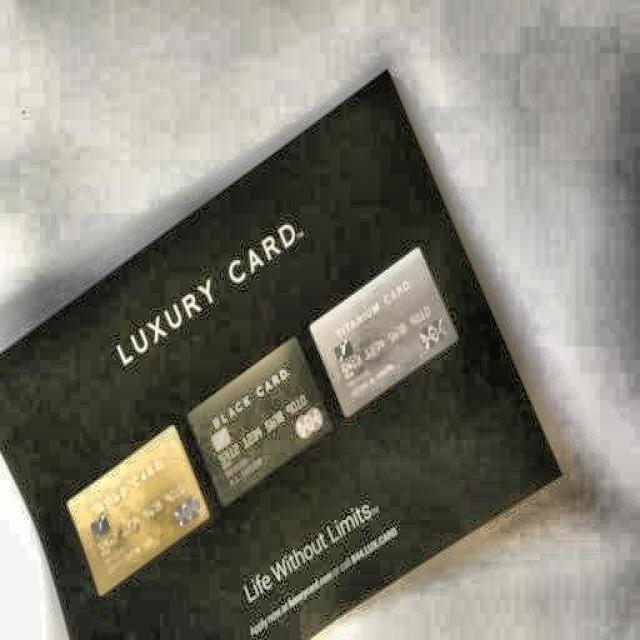paper: (8, 77, 564, 640)
